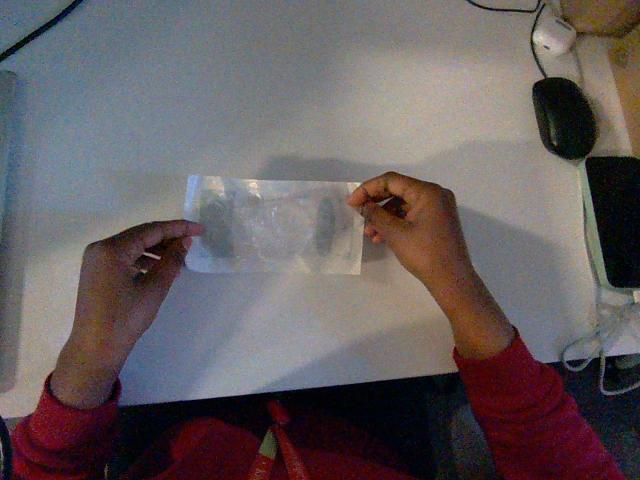gallipot: (185, 176, 363, 273)
